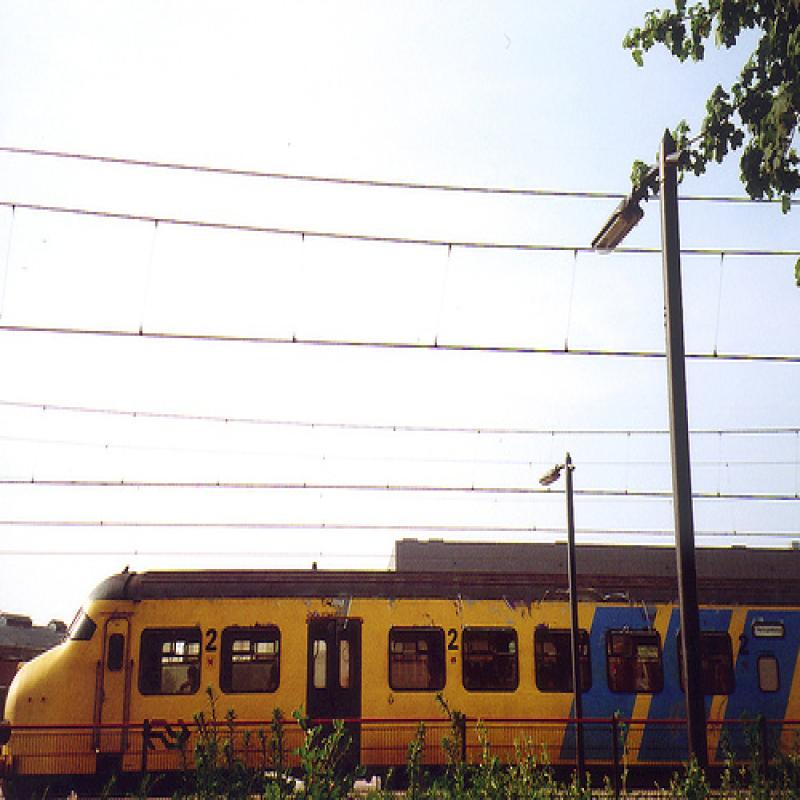train: (1, 563, 799, 798)
